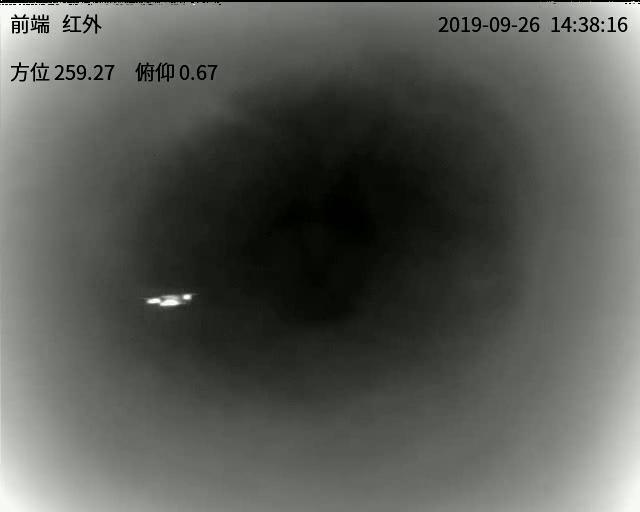DRONE: (146, 292, 198, 308)
